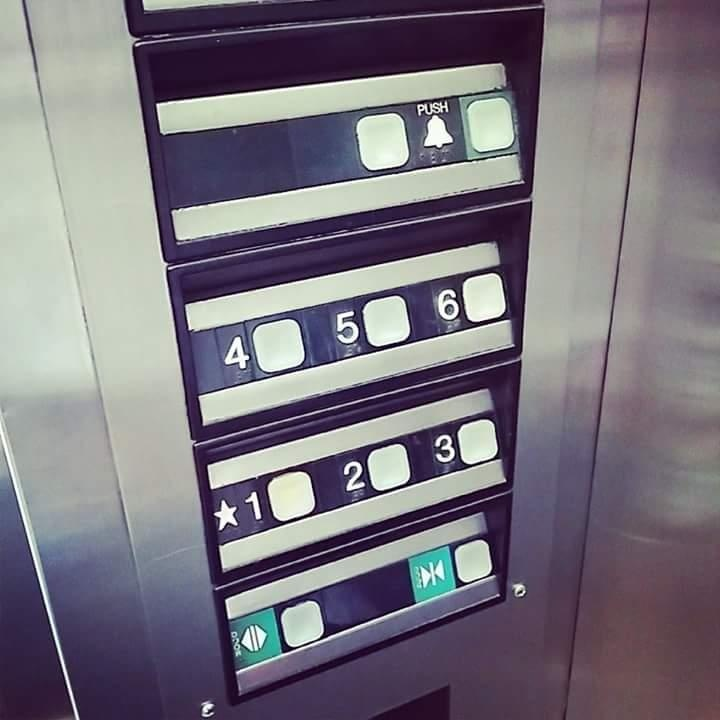2: (335, 428, 410, 508)
3: (424, 405, 500, 481)
4: (209, 302, 317, 391)
5: (323, 286, 416, 358)
6: (427, 262, 508, 343)
alarm: (406, 83, 524, 168)
close: (403, 530, 497, 607)
empty: (303, 95, 416, 188)
open: (223, 590, 335, 668)
s1: (207, 456, 322, 548)
